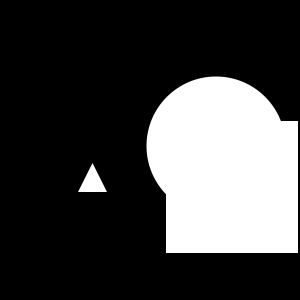circle: (166, 121, 298, 253)
rectangle: (146, 76, 286, 216)
triangle: (78, 163, 107, 192)
